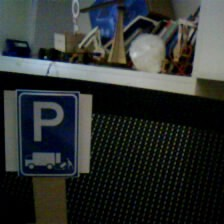load: (11, 87, 86, 178)
